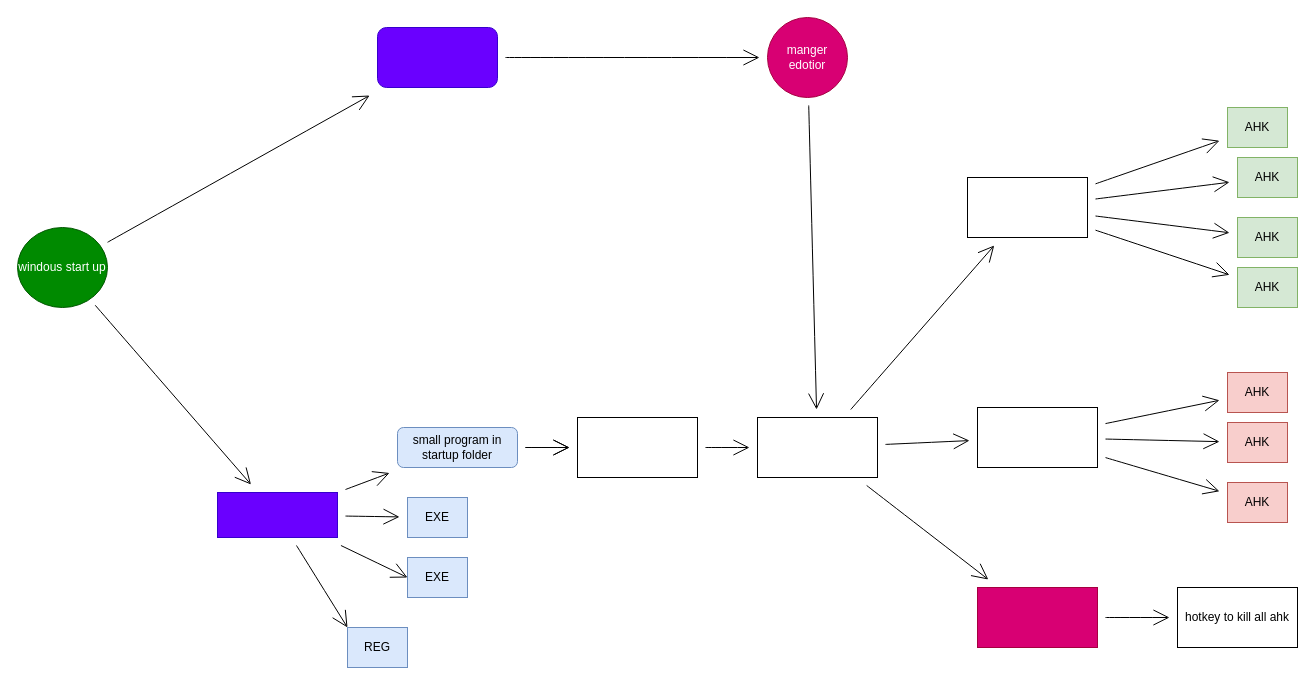
Image size: 1315x685. Some labels were removed from this diagram. Each missing label, with the box of its shape:
baybass disabled ahk: (976, 406, 1098, 468)
call other big programm: (576, 416, 698, 478)
load config: (756, 416, 878, 478)
load start up folder: (216, 492, 338, 538)
optional future: (976, 586, 1098, 648)
start allowed ahk: (966, 176, 1088, 238)
User lounch MANger exe: (376, 26, 498, 88)
